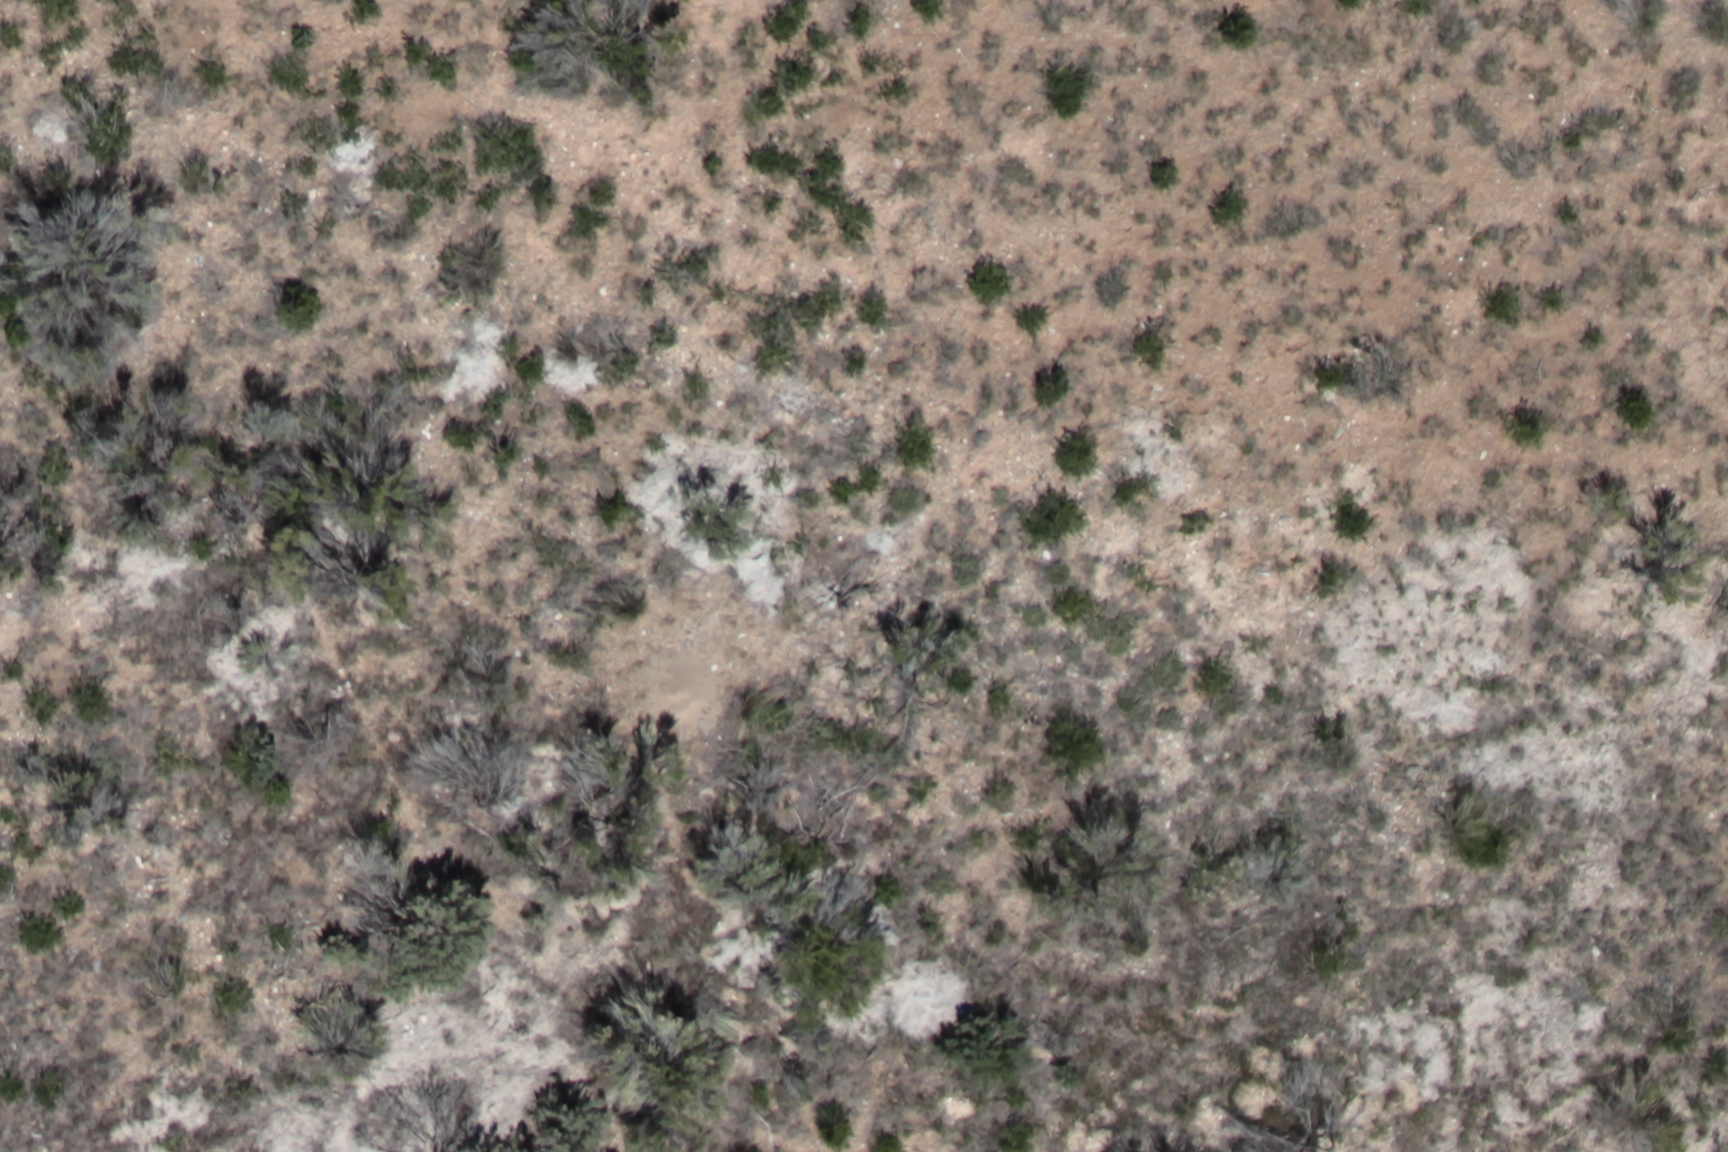burrow: (639, 651, 726, 738)
